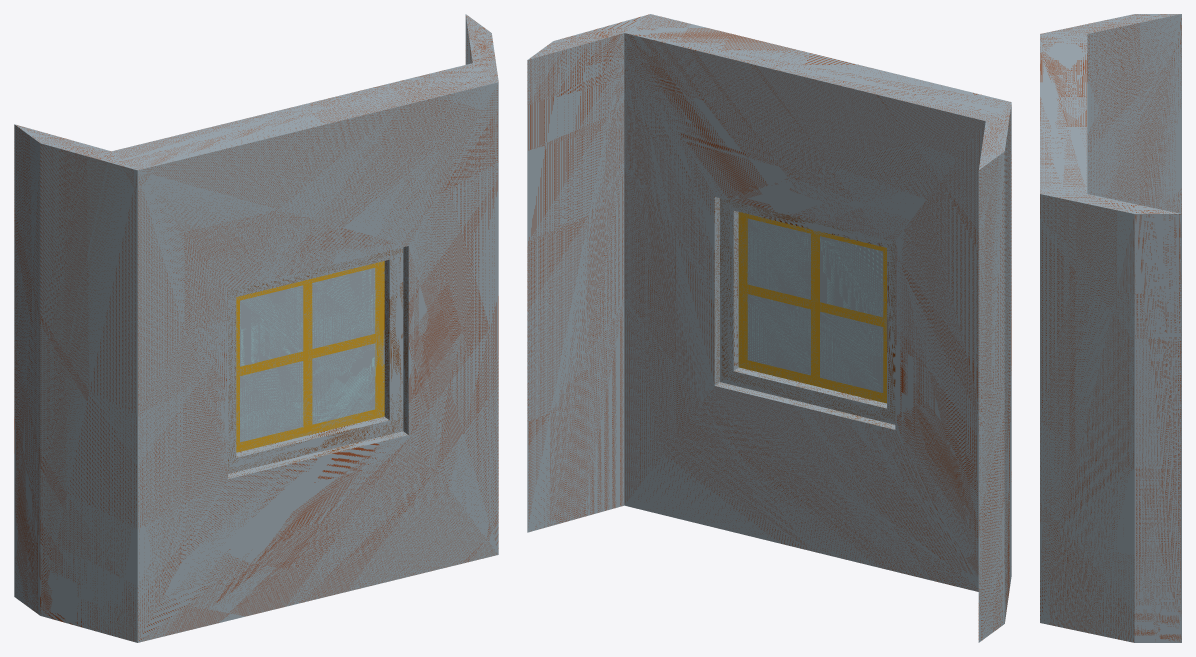
The model's file is window_bay_1.fbx.
The picture shows the model from 3 angles, left to right: view 1: azimuth 30°, elevation 25°; view 2: azimuth 150°, elevation 25°; view 3: azimuth 270°, elevation 25°; orthographic projection. The views are drawn at different scales.
Visible parts, largest first — view 1: Mesh1_window_18_1 Model; view 2: Mesh1_window_18_1 Model; view 3: Mesh1_window_18_1 Model.
Part boxes in pixels (x1=…): Mesh1_window_18_1 Model: x1=14, y1=14, x2=498, y2=642; Mesh1_window_18_1 Model: x1=527, y1=14, x2=1011, y2=642; Mesh1_window_18_1 Model: x1=1040, y1=14, x2=1181, y2=642.
Bounding box in the file's own units: 1 × 1 × 0.3.
